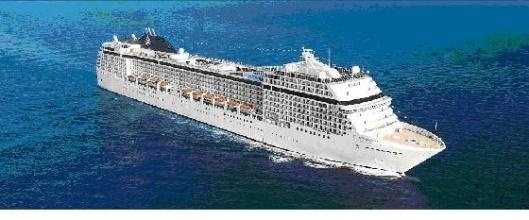youlun: (98, 24, 447, 176)
